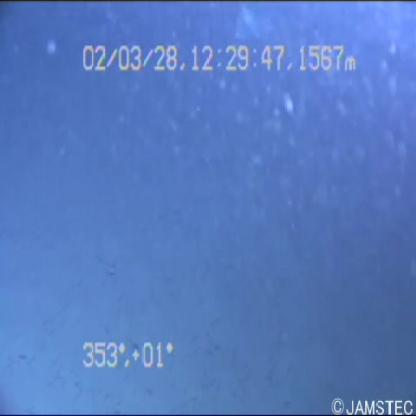Rác: (224, 1, 278, 50)
